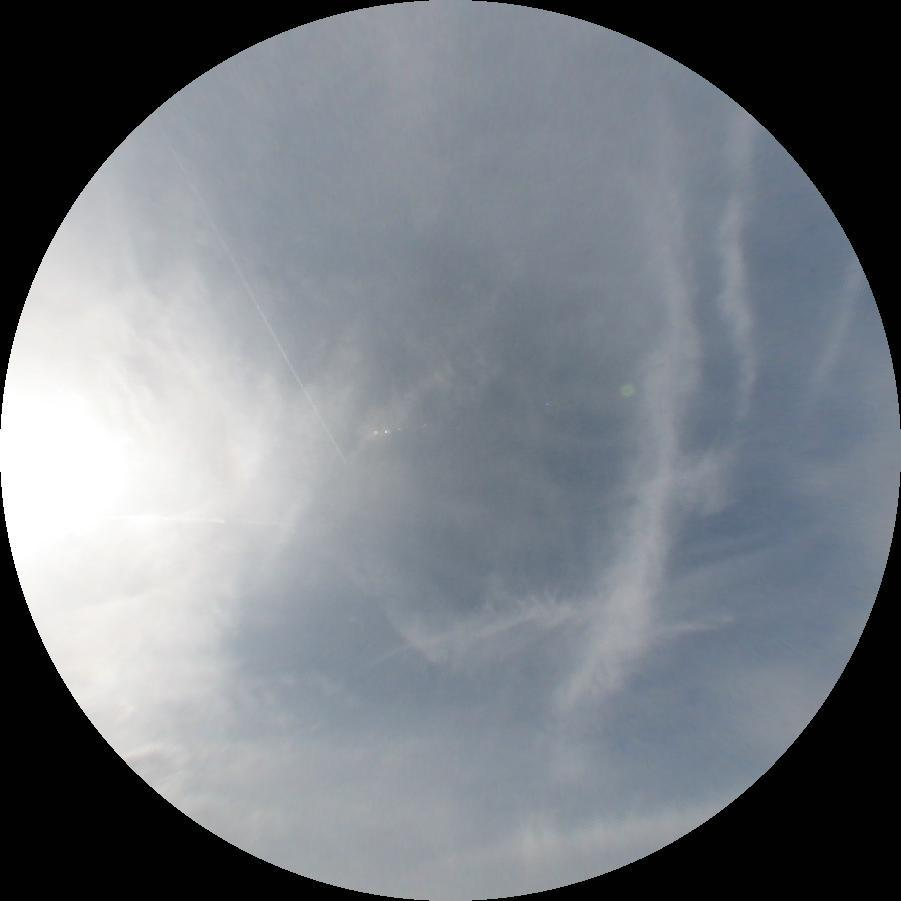contrail young: (150, 111, 348, 465)
parasite: (103, 513, 285, 525)
